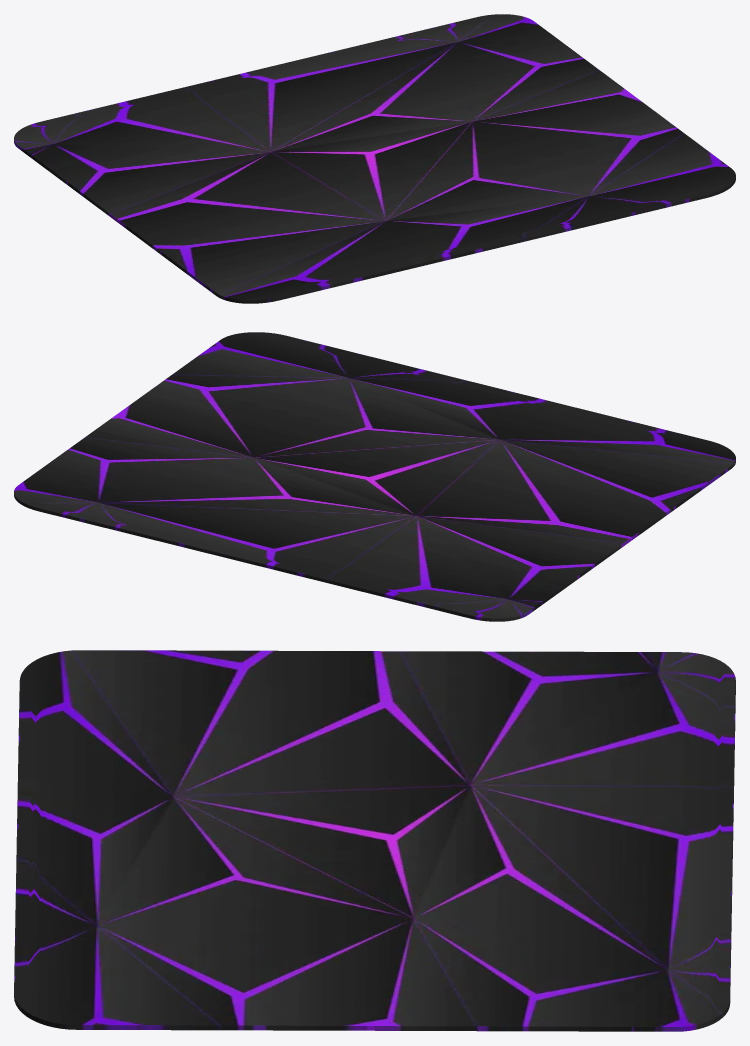
File: mousepad-DkrN1LQS.glb
3 views of the same model, one above another, from view 1: azimuth 30°, elevation 25°; view 2: azimuth 150°, elevation 25°; view 3: azimuth 270°, elevation 25° (orthographic). The views are drawn at different scales.
Parts seen in each view (by area): view 1: StudyShelf_173; view 2: StudyShelf_173; view 3: StudyShelf_173.
Boxes of the visible parts, x1=… form: StudyShelf_173: x1=14, y1=14, x2=735, y2=303; StudyShelf_173: x1=14, y1=332, x2=735, y2=621; StudyShelf_173: x1=14, y1=650, x2=735, y2=1031.
Size of the model in its own units: 42.95 by 0.2516 by 34.77.
1 material, 1 textured.
